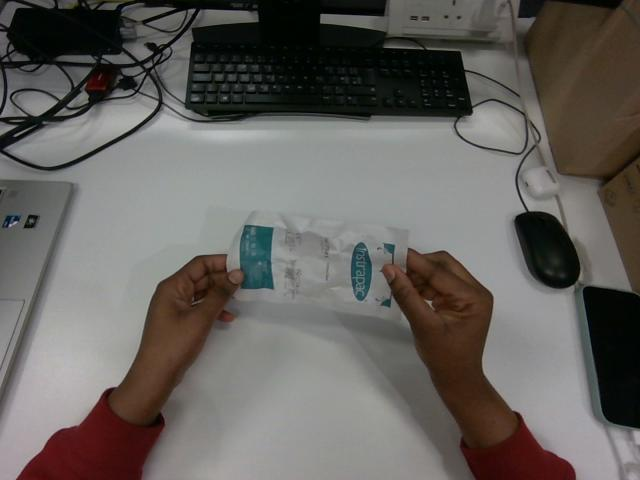gallipot: (227, 211, 408, 318)
